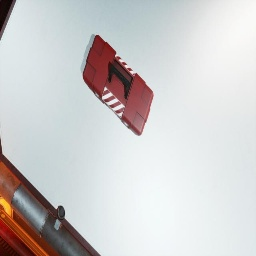FirstAidBox ,: (83, 35, 154, 136)
